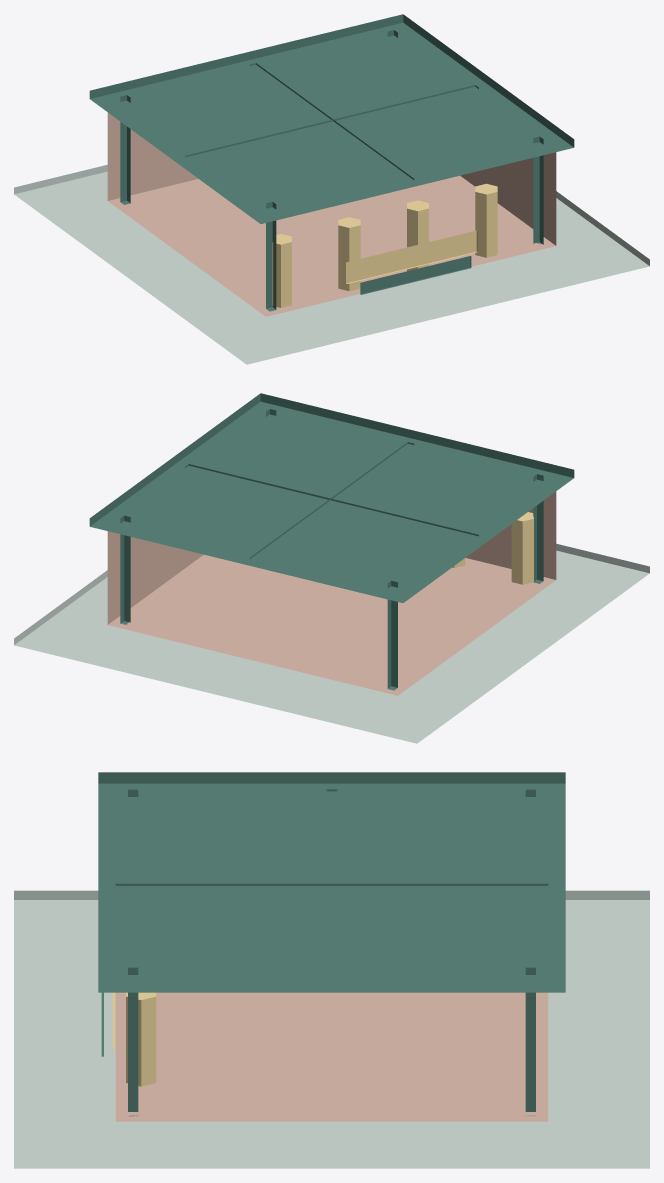
Rendered from furniture_workshop.glb.
The picture shows the model from 3 angles, top to bottom: view 1: azimuth 30°, elevation 25°; view 2: azimuth 150°, elevation 25°; view 3: azimuth 270°, elevation 25°; orthographic projection. The views are drawn at different scales.
Visible parts, largest first — view 1: Roof, Foundation, Walls, Details, Frame; view 2: Roof, Walls, Foundation, Frame, Details; view 3: Roof, Foundation, Walls, Frame, Details.
Boxes of the visible parts, x1,y1,x2,y2 form: Roof: (89, 14, 574, 223); Foundation: (14, 164, 649, 364); Walls: (107, 112, 556, 316); Details: (272, 183, 497, 307); Frame: (120, 30, 543, 311); Roof: (89, 393, 574, 602); Walls: (107, 491, 556, 695); Foundation: (14, 543, 649, 743); Frame: (120, 409, 543, 690); Details: (452, 512, 533, 584); Roof: (98, 772, 565, 992); Foundation: (14, 890, 649, 1168); Walls: (115, 992, 548, 1121); Frame: (115, 789, 548, 1116); Details: (101, 992, 156, 1086).
Bounding box in the file's own units: 40 × 10.94 × 40.
